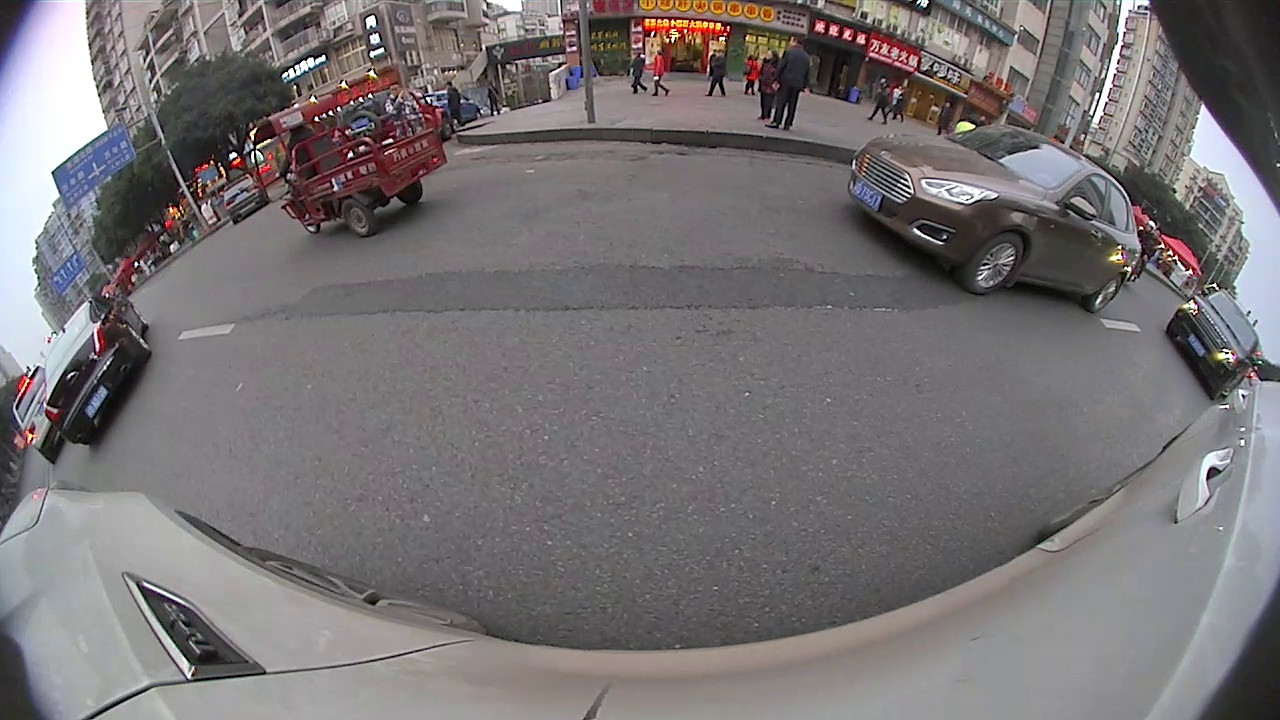car: (845, 120, 1143, 313), (33, 289, 153, 454), (1165, 284, 1257, 403), (9, 363, 75, 467), (216, 171, 269, 224)
front: (963, 230, 1025, 298)
person: (775, 31, 813, 134)
rear: (1087, 272, 1125, 316), (341, 197, 375, 239)
rider: (248, 92, 446, 243)
